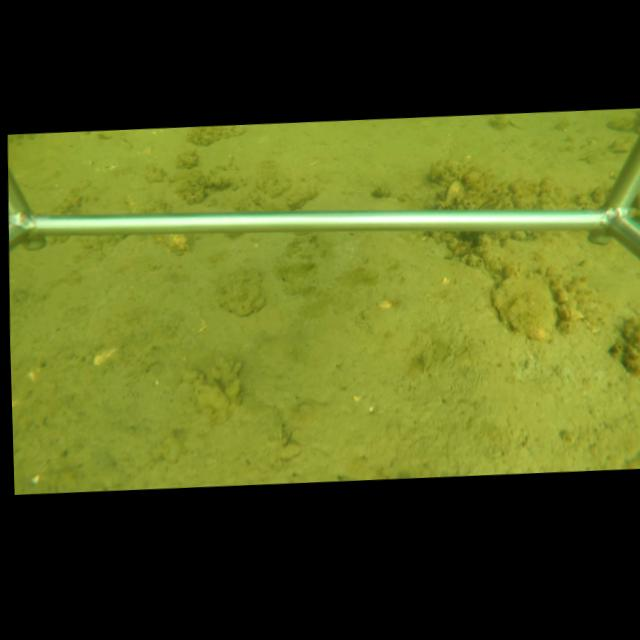Oyster-Closed: (443, 179, 462, 204)
Oyster-Indeterminate: (490, 269, 560, 336)
